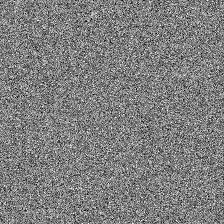cavities: (58, 68, 109, 124)
